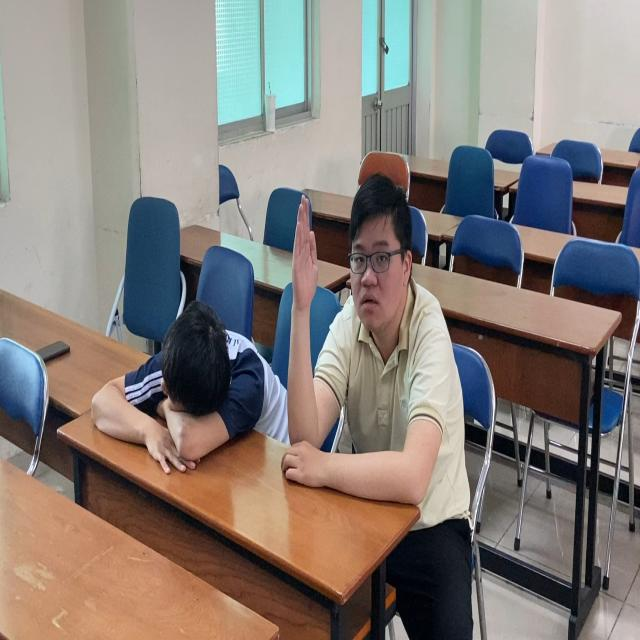raise_hand: (281, 166, 479, 523)
sleep: (89, 299, 286, 476)
